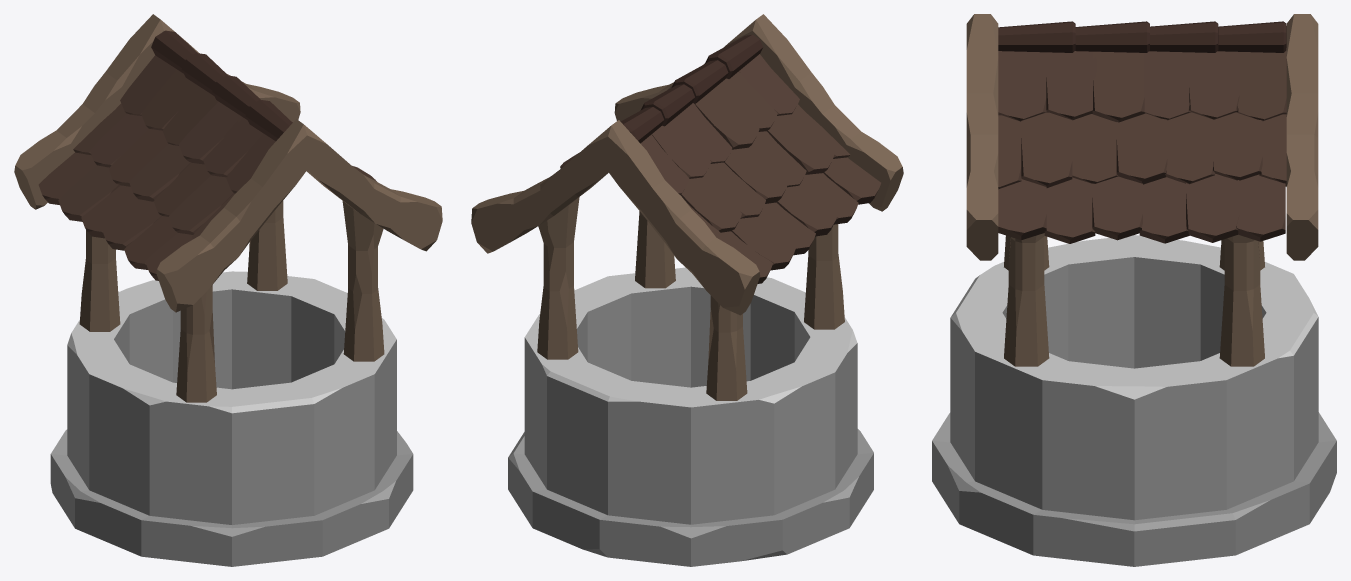
Rendered from Well1.fbx.
The picture shows the model from 3 angles, left to right: view 1: azimuth 30°, elevation 25°; view 2: azimuth 150°, elevation 25°; view 3: azimuth 270°, elevation 25°; orthographic projection. The views are drawn at different scales.
Parts seen in each view (by area): view 1: Circle.044, Plane.075, Circle.053, Plane.066, Plane.070, Plane.064, Plane.057, Plane.071, Plane.059, Plane.068, Plane.063, Plane.067 (+13 smaller); view 2: Circle.044, Plane.075, Circle.053, Plane.066, Plane.070, Plane.064, Plane.057, Plane.062, Plane.068, Plane.059, Plane.063, Plane.072 (+13 smaller); view 3: Circle.044, Plane.075, Circle.053, Plane.066, Plane.070, Plane.064, Plane.072, Plane.068, Plane.057, Plane.067, Plane.071, Plane.063 (+14 smaller).
Boxes of the visible parts, left/top/right/bottom form: Circle.044: left=50, top=271, right=413, bottom=566; Plane.075: left=14, top=14, right=442, bottom=312; Circle.053: left=79, top=200, right=384, bottom=402; Plane.066: left=169, top=175, right=233, bottom=234; Plane.070: left=178, top=101, right=243, bottom=164; Plane.064: left=129, top=144, right=190, bottom=201; Plane.057: left=58, top=165, right=120, bottom=221; Plane.071: left=203, top=118, right=262, bottom=177; Plane.059: left=102, top=166, right=376, bottom=250; Plane.068: left=141, top=69, right=199, bottom=130; Plane.063: left=109, top=128, right=168, bottom=186; Plane.067: left=120, top=55, right=176, bottom=115; Circle.044: left=508, top=267, right=873, bottom=566; Plane.075: left=471, top=14, right=903, bottom=315; Circle.053: left=537, top=197, right=844, bottom=400; Plane.066: left=767, top=114, right=834, bottom=174; Plane.070: left=694, top=85, right=759, bottom=149; Plane.064: left=724, top=147, right=788, bottom=203; Plane.057: left=731, top=216, right=795, bottom=270; Plane.062: left=680, top=177, right=741, bottom=232; Plane.068: left=652, top=118, right=711, bottom=178; Plane.059: left=560, top=153, right=837, bottom=236; Plane.063: left=702, top=162, right=765, bottom=218; Plane.072: left=739, top=54, right=799, bottom=115; Circle.044: left=932, top=235, right=1336, bottom=566; Plane.075: left=966, top=14, right=1318, bottom=260; Circle.053: left=1004, top=233, right=1264, bottom=366; Plane.066: left=1021, top=112, right=1072, bottom=187; Plane.070: left=1092, top=51, right=1144, bottom=122; Plane.064: left=1116, top=113, right=1167, bottom=184; Plane.072: left=998, top=51, right=1046, bottom=121; Plane.068: left=1188, top=51, right=1239, bottom=119; Plane.057: left=1186, top=173, right=1239, bottom=242; Plane.067: left=1236, top=48, right=1286, bottom=120; Plane.071: left=1046, top=51, right=1096, bottom=120; Plane.063: left=1165, top=112, right=1214, bottom=184.
Size of the model in its own units: 2.57 by 2.57 by 3.27.
